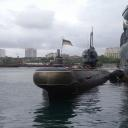submarine: (34, 27, 112, 106)
